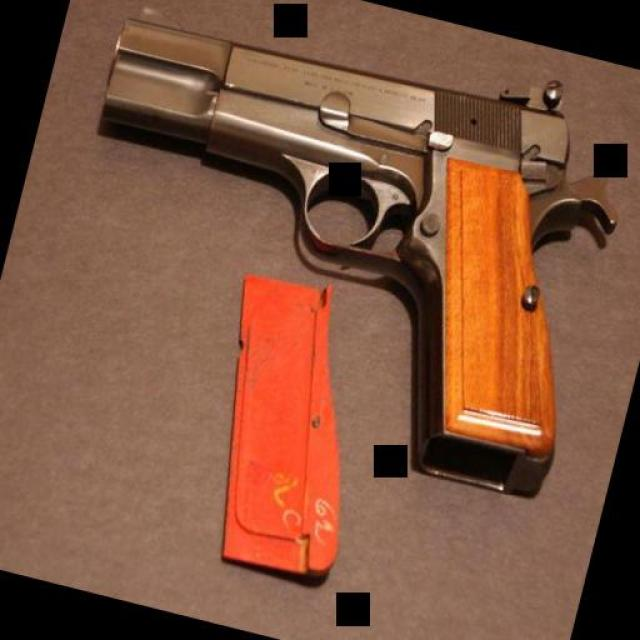gun: (21, 0, 640, 530)
